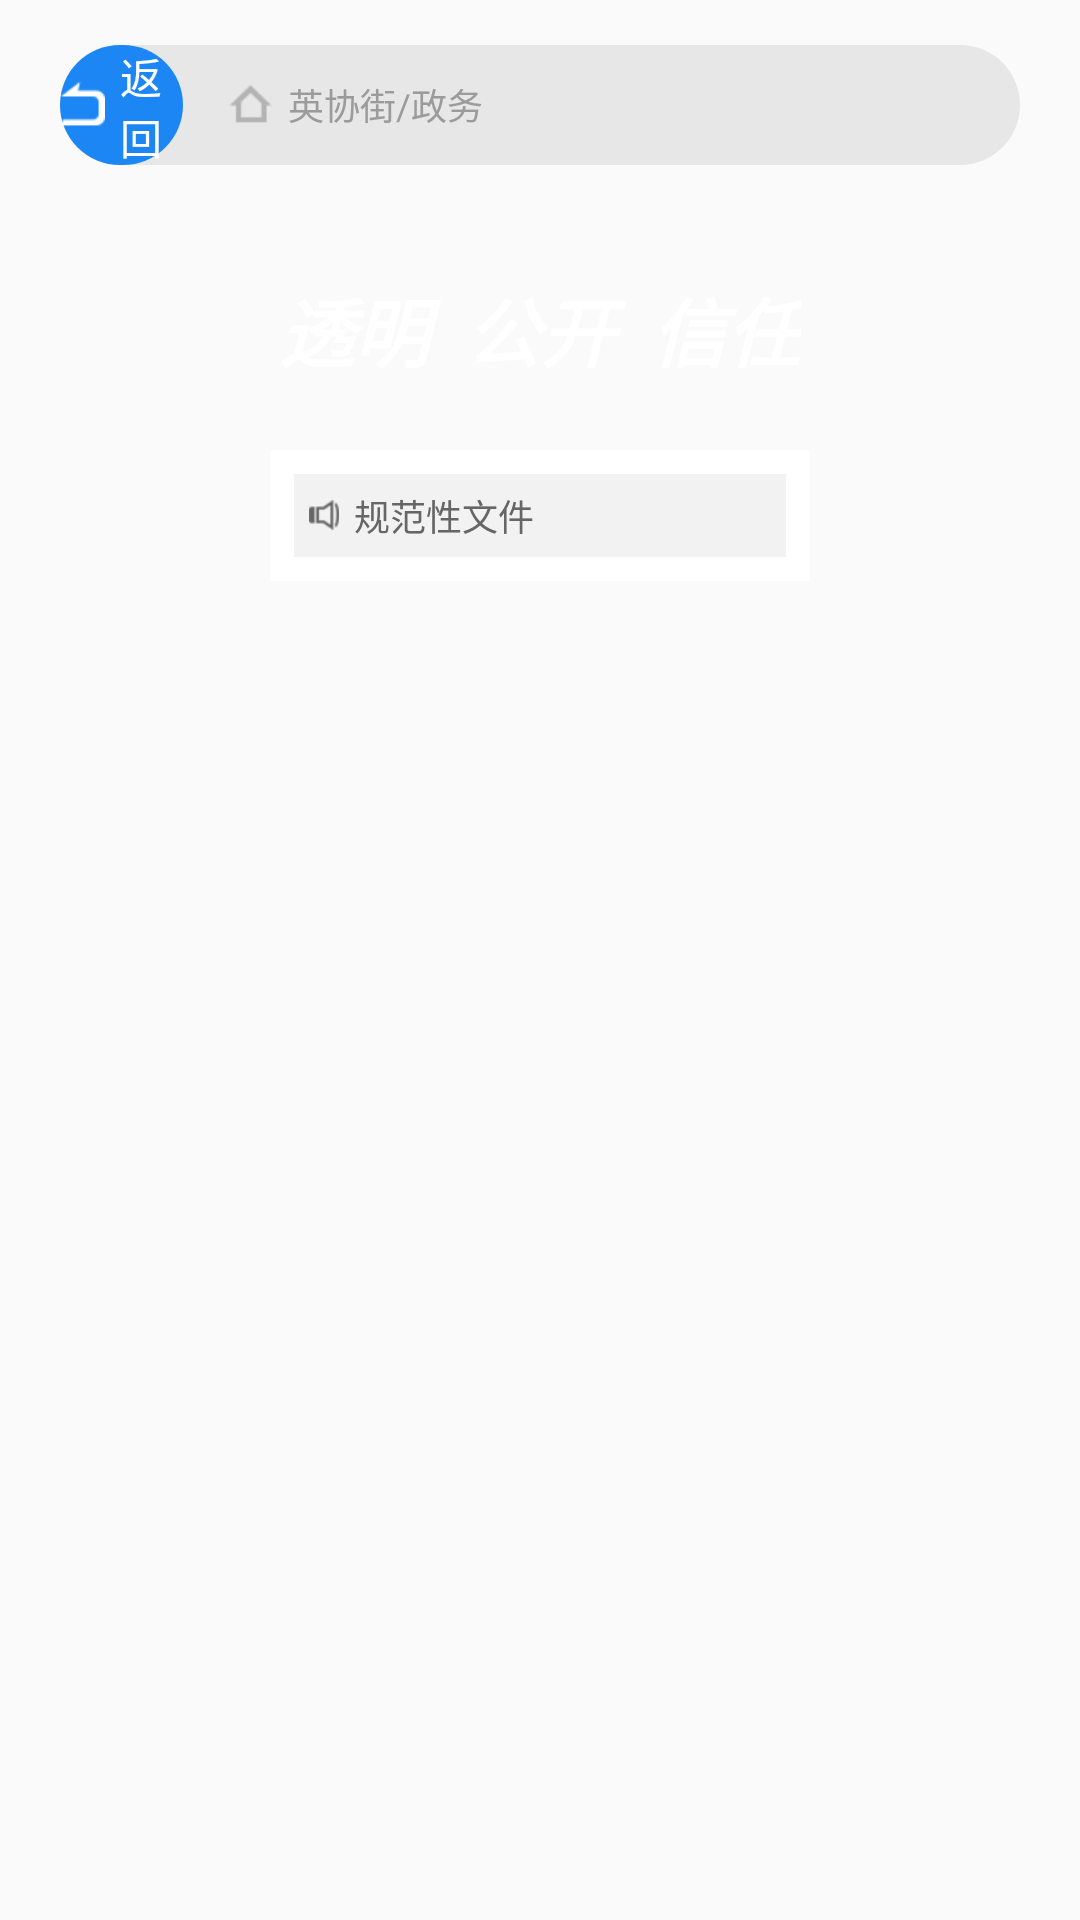

Where icons sit on this 1080px×1920px app screen, as box=[x1, y1, x2, y2]:
crumb home: box=[231, 86, 270, 122]
